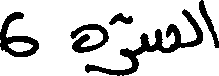6: (0, 9, 38, 57)
ا: (199, 0, 217, 49)
ر: (119, 42, 138, 74)
س: (141, 21, 180, 54)
ل: (182, 0, 201, 49)
ه: (71, 20, 109, 55)
